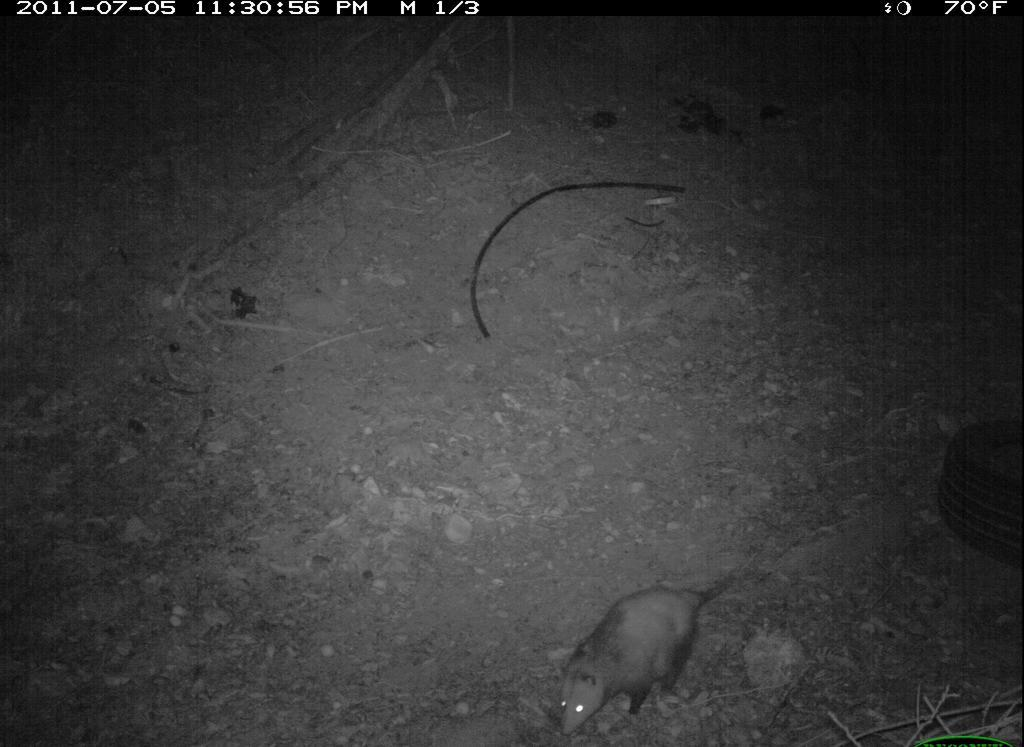opossum: (529, 550, 737, 739)
